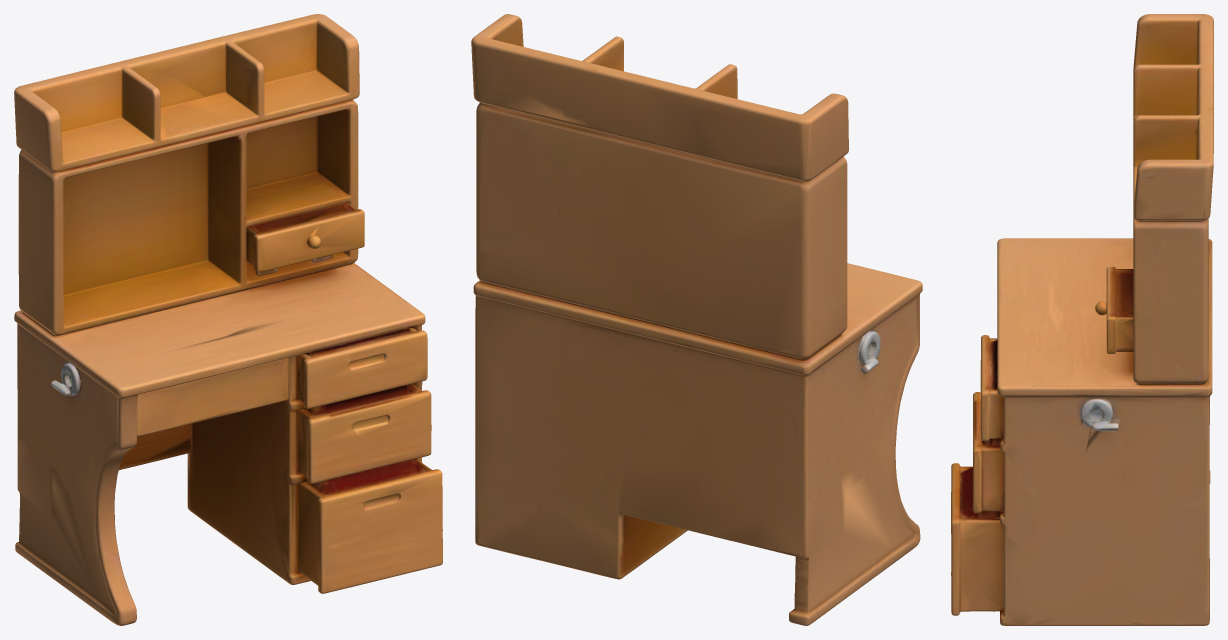
Rendered from desk.glb.
3 views of the same model, side by side, from view 1: azimuth 30°, elevation 25°; view 2: azimuth 150°, elevation 25°; view 3: azimuth 270°, elevation 25° (orthographic). The views are drawn at different scales.
Visible parts, largest first — view 1: node_0; view 2: node_0; view 3: node_0.
Boxes of the visible parts, left/top/right/bottom form: node_0: left=14, top=14, right=442, bottom=625; node_0: left=471, top=14, right=922, bottom=625; node_0: left=951, top=14, right=1213, bottom=625.
Size of the model in its own units: 0.6742 by 0.9155 by 0.4699.
Materials: 1 (1 with a texture image).
